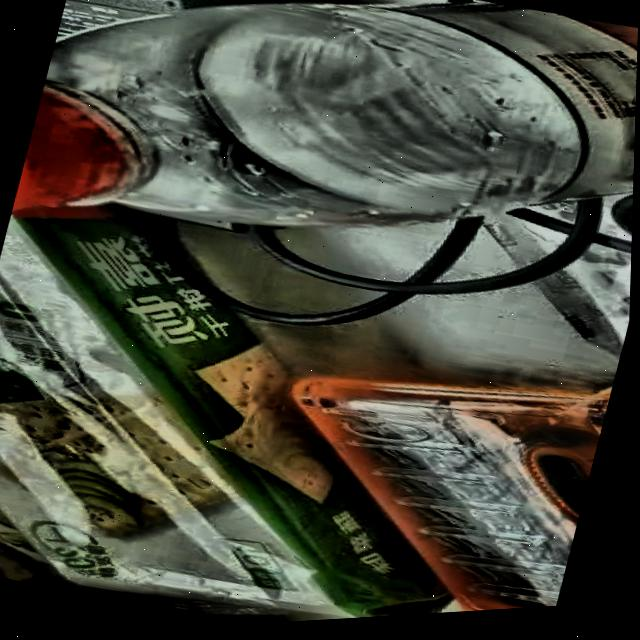plastic: (7, 0, 640, 360)
